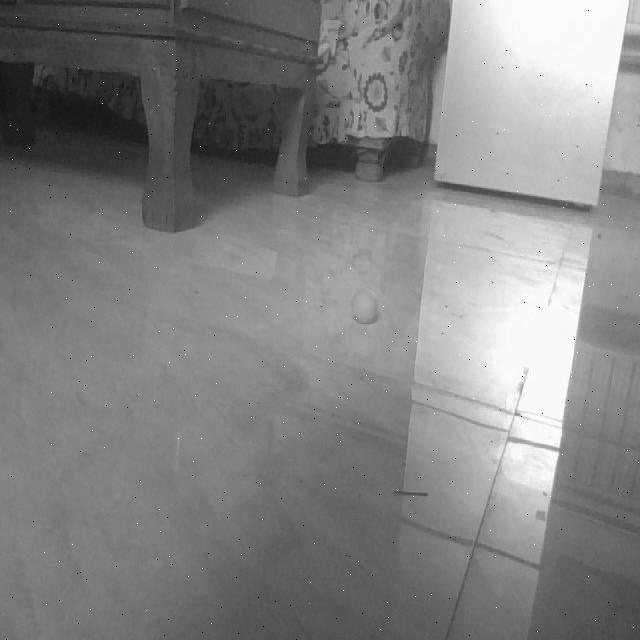ping-pong-ball: (353, 292, 378, 324)
